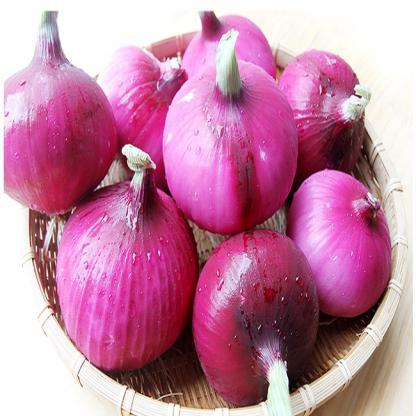onion: (79, 170, 193, 366), (165, 69, 296, 217), (208, 232, 314, 390), (9, 64, 121, 198), (310, 167, 393, 304)
